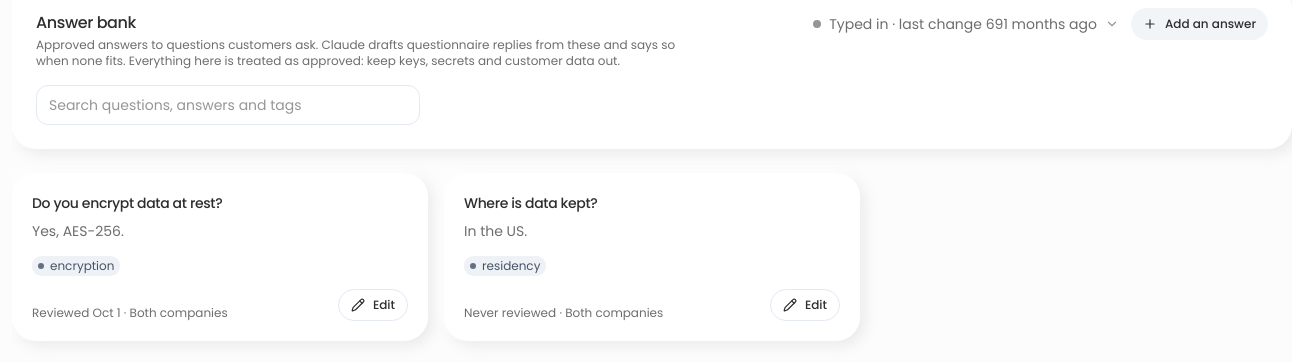
Test: answer bank › cards can be searched by question, answer and tag; a Globex answer is not in Startup's view
Expected: the text "Reviewed Oct 1 · Both companies" is shown, [32, 305, 228, 321]
In the search field named "Search the answer bank": (228, 105) [36, 85, 420, 125], type "residency"
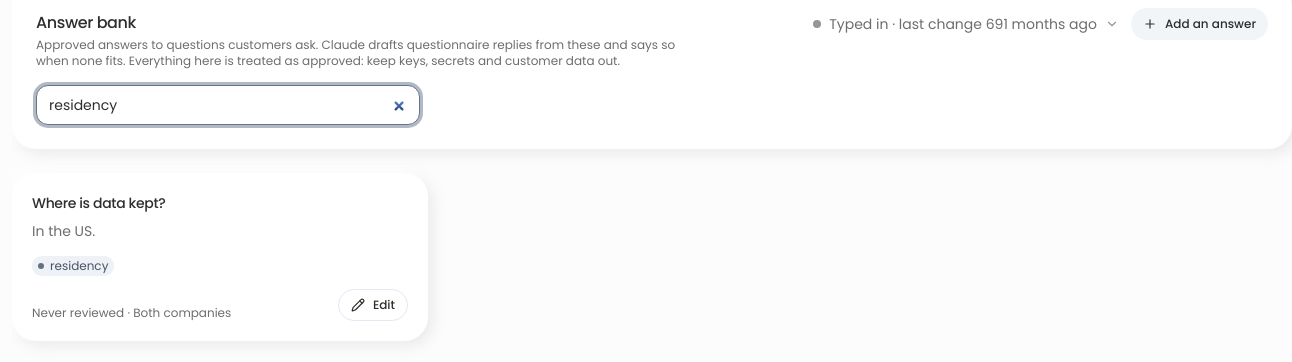
Expected: the heading "Where is data kept?" is shown, [32, 193, 166, 213]
Expected: the heading "Do you encrypt data at rest?" is gone
Replace the text in the search field named "Search the answer bank" with "zzz": (228, 105) [36, 85, 420, 125]
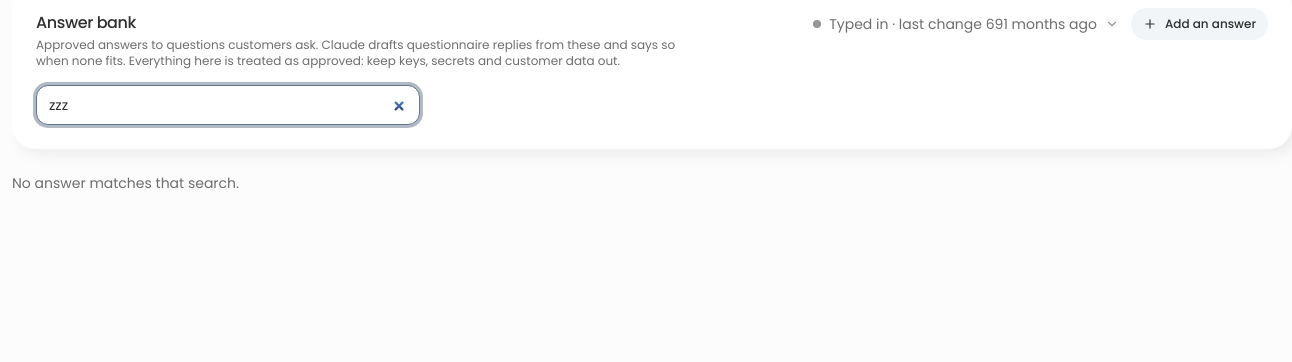
Expected: the text "No answer matches that search." is shown, [12, 173, 239, 193]
